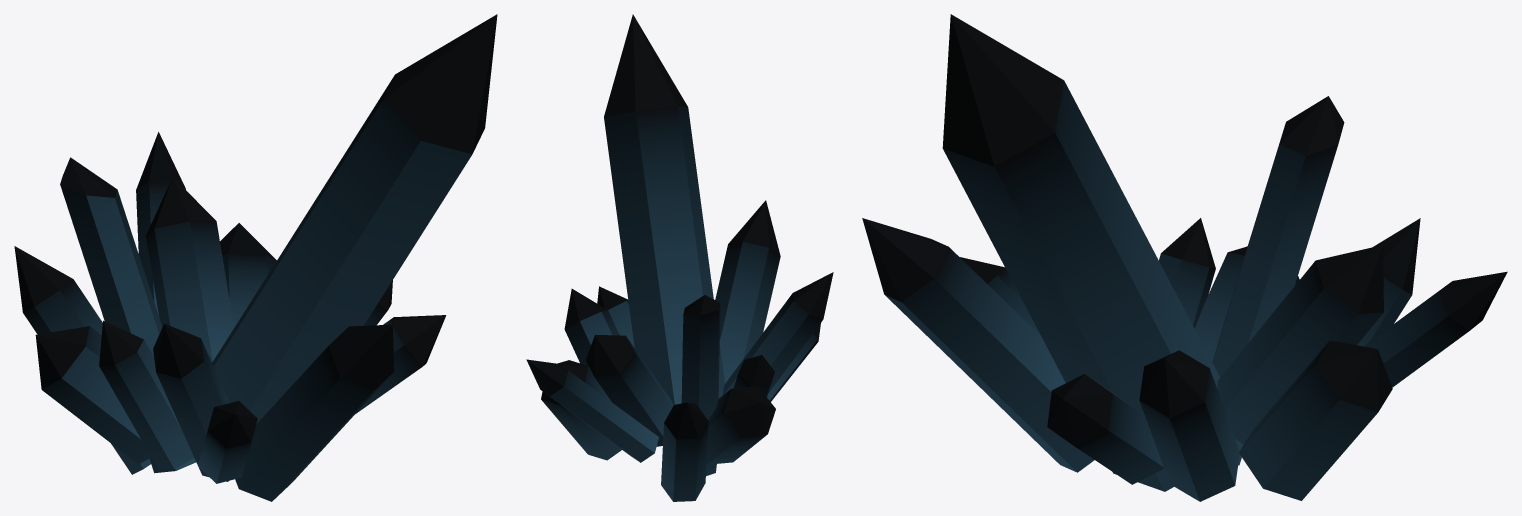
File: CrystalCluster_Medium2.fbx
3 renders of one model, left to right at view 1: azimuth 30°, elevation 25°; view 2: azimuth 150°, elevation 25°; view 3: azimuth 270°, elevation 25°, orthographic. The views are drawn at different scales.
Parts seen in each view (by area): view 1: CrystalCluster_Medium2; view 2: CrystalCluster_Medium2; view 3: CrystalCluster_Medium2.
Boxes of the visible parts, <box> form: CrystalCluster_Medium2: <box>14,14,497,501</box>; CrystalCluster_Medium2: <box>526,14,833,501</box>; CrystalCluster_Medium2: <box>862,14,1507,501</box>.
Bounding box in the file's own units: 123 × 183 × 184.
